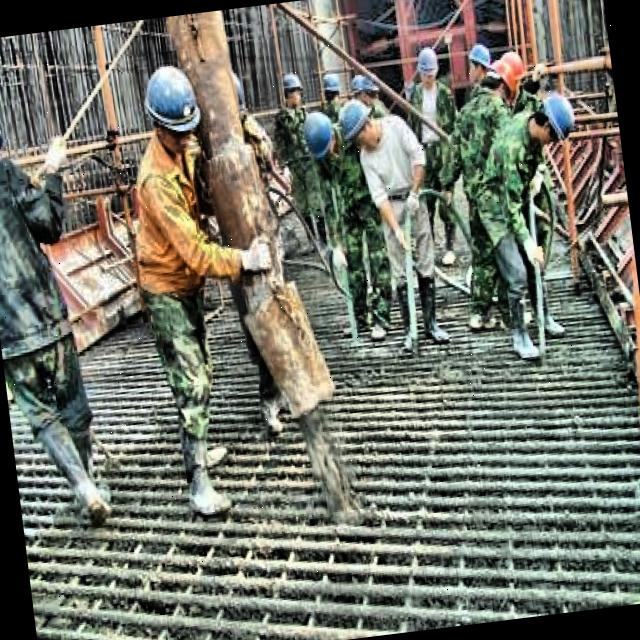helmet: (138, 58, 204, 152), (532, 88, 581, 156), (337, 94, 387, 160), (299, 108, 342, 168), (482, 55, 520, 106), (414, 41, 444, 91), (0, 79, 15, 178), (464, 39, 494, 84), (501, 46, 529, 91), (276, 69, 304, 110), (318, 69, 341, 111)
